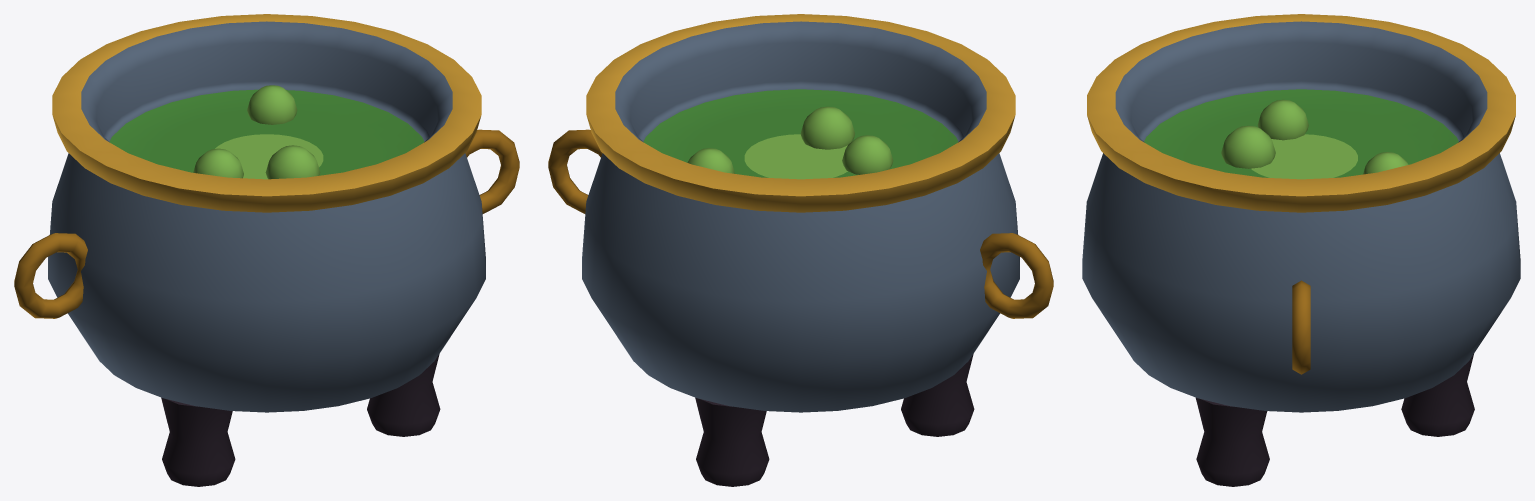
Rendered from Cauldron_01.glb.
3 renders of one model, left to right at view 1: azimuth 30°, elevation 25°; view 2: azimuth 150°, elevation 25°; view 3: azimuth 270°, elevation 25°, orthographic.
Visible parts, largest first — view 1: Cauldron_01; view 2: Cauldron_01; view 3: Cauldron_01.
Boxes of the visible parts, box(x1,y1,x2,y2) form: Cauldron_01: box(14, 14, 519, 486); Cauldron_01: box(548, 14, 1053, 486); Cauldron_01: box(1082, 14, 1520, 486).
Size of the model in its own units: 4.43 by 2.71 by 3.32.
